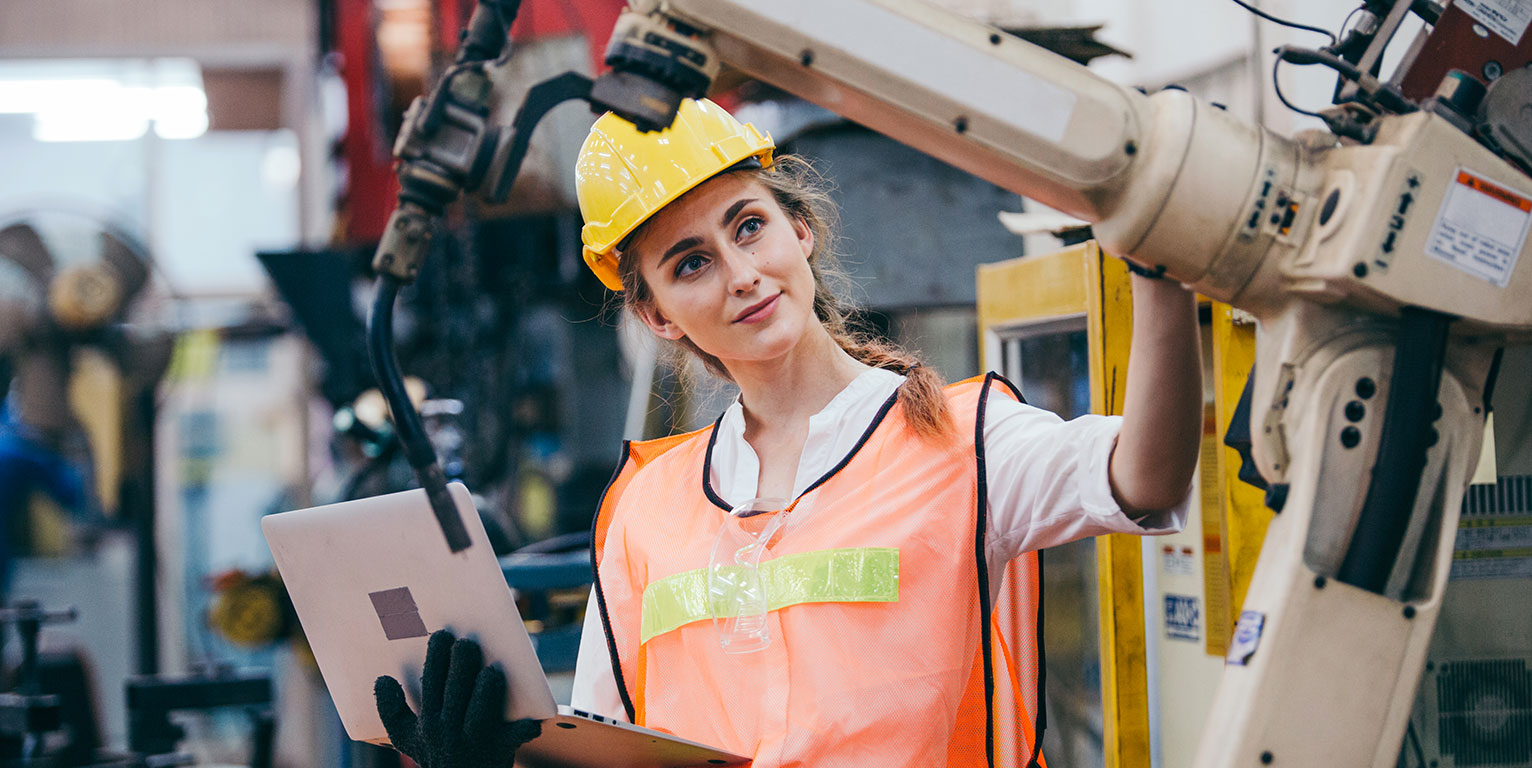person: (373, 93, 1208, 768)
robot: (358, 2, 1532, 768)
